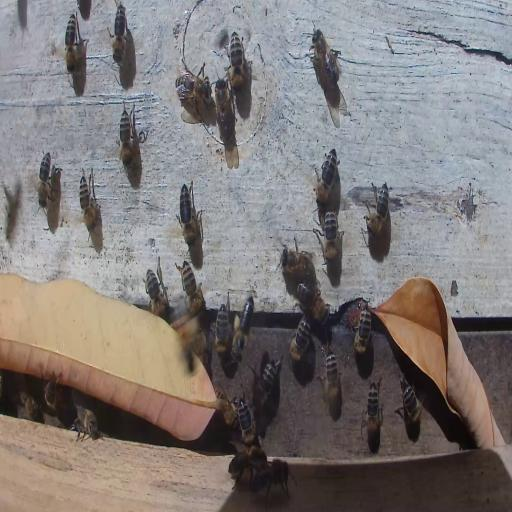nonpollenbee: (311, 26, 341, 91), (176, 178, 204, 246), (251, 458, 295, 499), (176, 258, 204, 316), (316, 208, 343, 266), (176, 68, 212, 110), (78, 171, 102, 233), (313, 148, 339, 205), (365, 180, 391, 235), (295, 282, 330, 322), (322, 348, 343, 413), (398, 376, 423, 429), (145, 258, 168, 315), (348, 300, 372, 354), (228, 447, 264, 481), (118, 106, 137, 167), (280, 244, 316, 276), (256, 360, 281, 404), (364, 377, 382, 438), (110, 3, 127, 65), (288, 316, 310, 362), (71, 406, 98, 442), (37, 150, 52, 210), (213, 76, 232, 122), (213, 306, 229, 358), (238, 399, 256, 445), (229, 32, 244, 87), (65, 12, 77, 75), (18, 392, 44, 420), (192, 328, 208, 373), (45, 379, 58, 414)
pollenbee: (232, 297, 256, 357)
